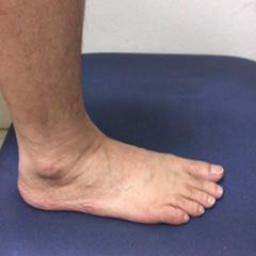Lateral View -Right Foot-: (6, 106, 230, 234)
